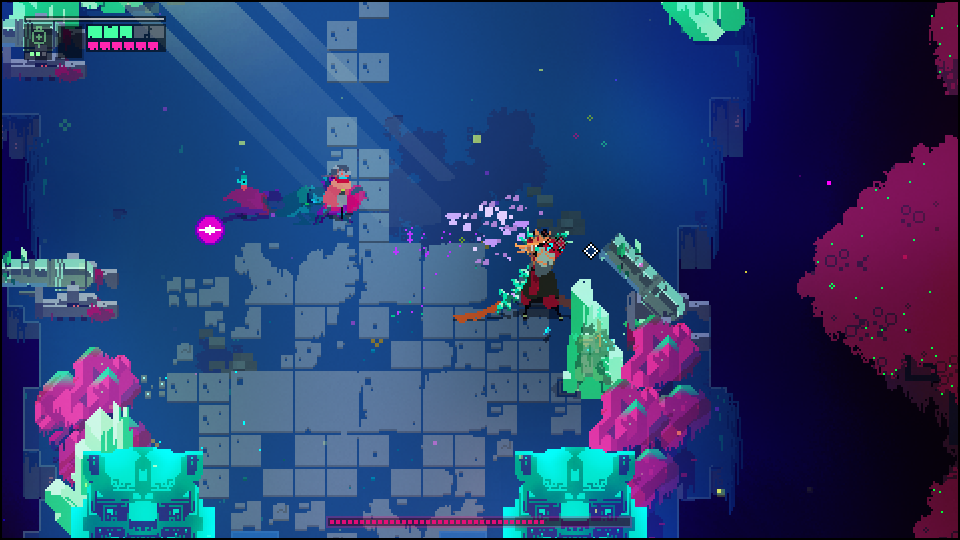hanged_man: (490, 223, 575, 323)
hanged_shot: (193, 215, 225, 247)
player: (320, 164, 353, 222)
